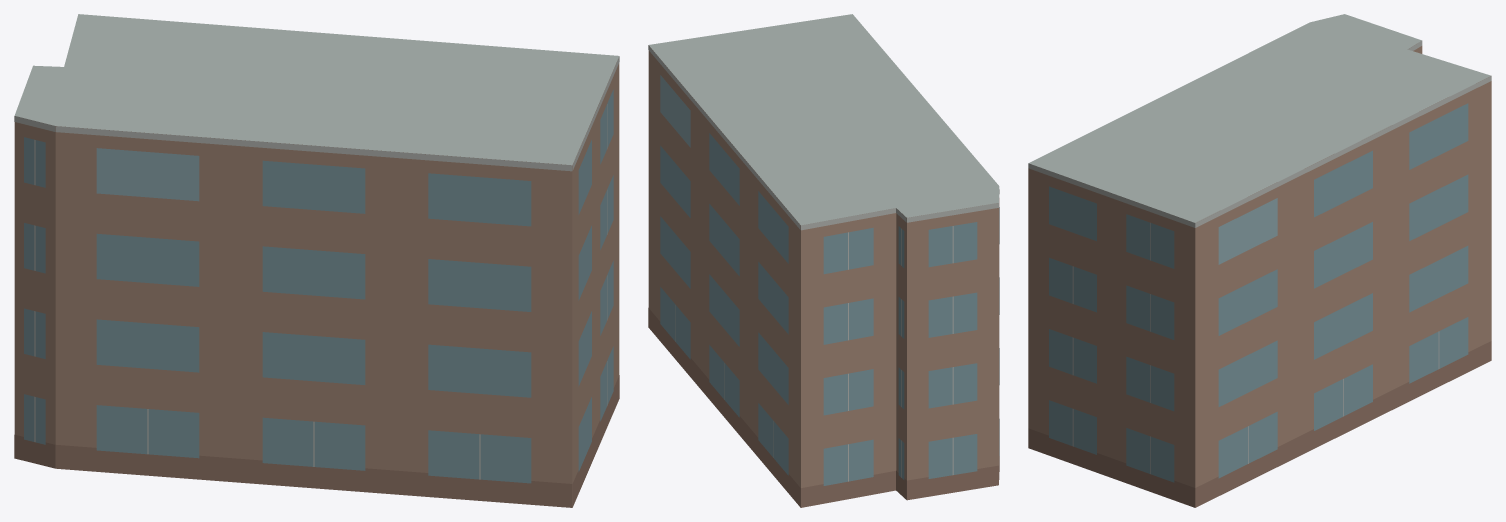
File: survey-upis-32609598.glb
3 views of the same model, side by side, from view 1: azimuth 30°, elevation 25°; view 2: azimuth 150°, elevation 25°; view 3: azimuth 270°, elevation 25° (orthographic). The views are drawn at different scales.
Visible parts, largest first — view 1: survey-upis-32609598.tmp; view 2: survey-upis-32609598.tmp; view 3: survey-upis-32609598.tmp.
Part boxes in pixels (bbox=[...]): survey-upis-32609598.tmp: bbox=[14, 14, 619, 507]; survey-upis-32609598.tmp: bbox=[648, 14, 999, 507]; survey-upis-32609598.tmp: bbox=[1028, 14, 1491, 507].
Bounding box in the file's own units: 21.56 × 13.7 × 20.19.
